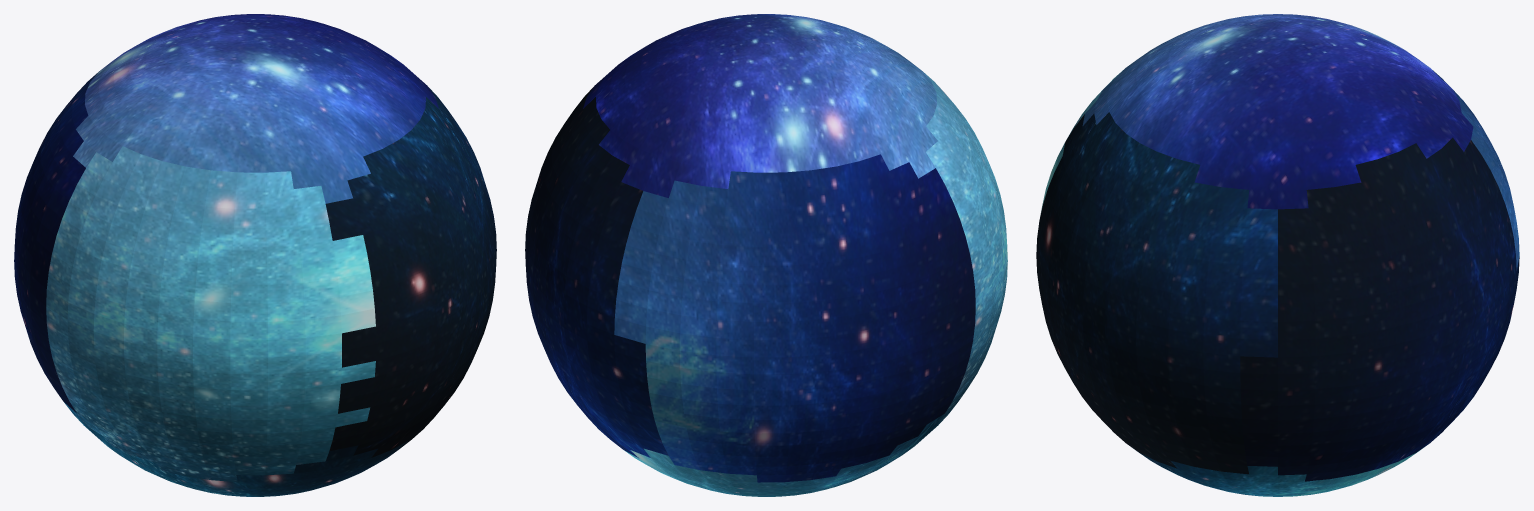
File: space001.obj
3 renders of one model, left to right at view 1: azimuth 30°, elevation 25°; view 2: azimuth 150°, elevation 25°; view 3: azimuth 270°, elevation 25°, orthographic.
Visible parts, largest first — view 1: Sphere; view 2: Sphere; view 3: Sphere.
Boxes of the visible parts, x1,y1,x2,y2 form: Sphere: (14, 14, 496, 496); Sphere: (525, 14, 1007, 496); Sphere: (1036, 14, 1519, 496).
Bounding box in the file's own units: 30 × 30 × 30.
1 material, 1 textured.
